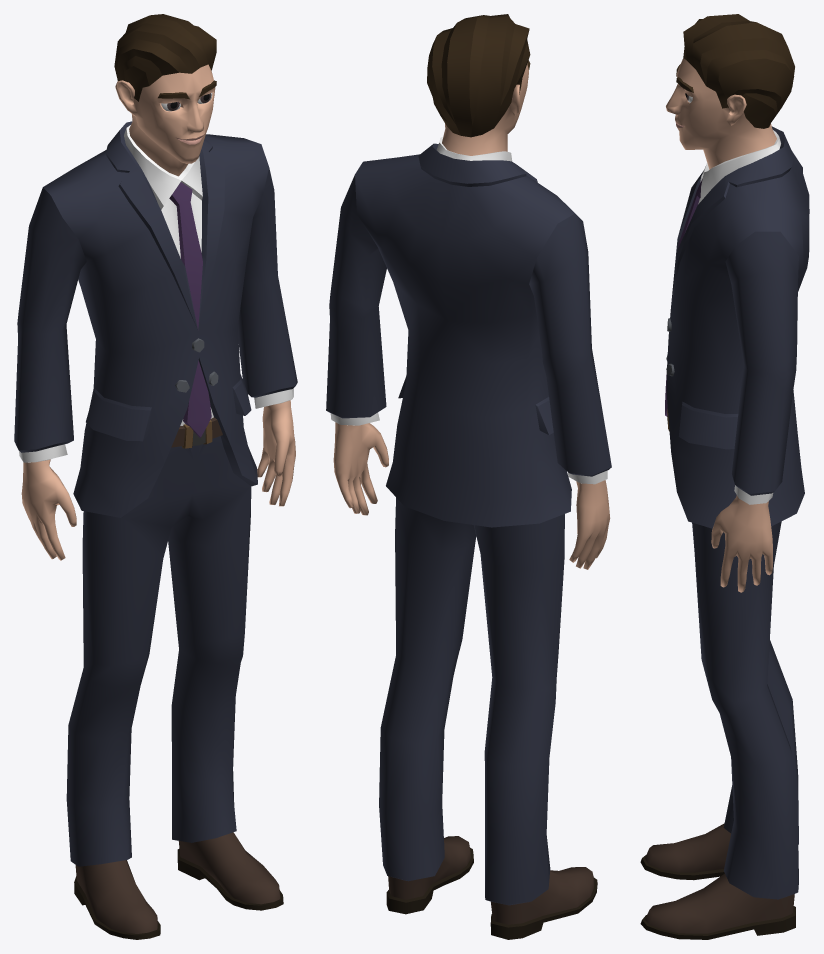
Rendered from person-suit.glb.
The picture shows the model from 3 angles, left to right: view 1: azimuth 30°, elevation 25°; view 2: azimuth 150°, elevation 25°; view 3: azimuth 270°, elevation 25°; orthographic projection.
Parts seen in each view (by area): view 1: man_in_suit; view 2: man_in_suit; view 3: man_in_suit.
Boxes of the visible parts, x1=… form: man_in_suit: x1=14, y1=14, x2=297, y2=939; man_in_suit: x1=326, y1=14, x2=611, y2=939; man_in_suit: x1=640, y1=14, x2=809, y2=939.
Bounding box in the file's own units: 0.5939 × 1.78 × 0.3109.
